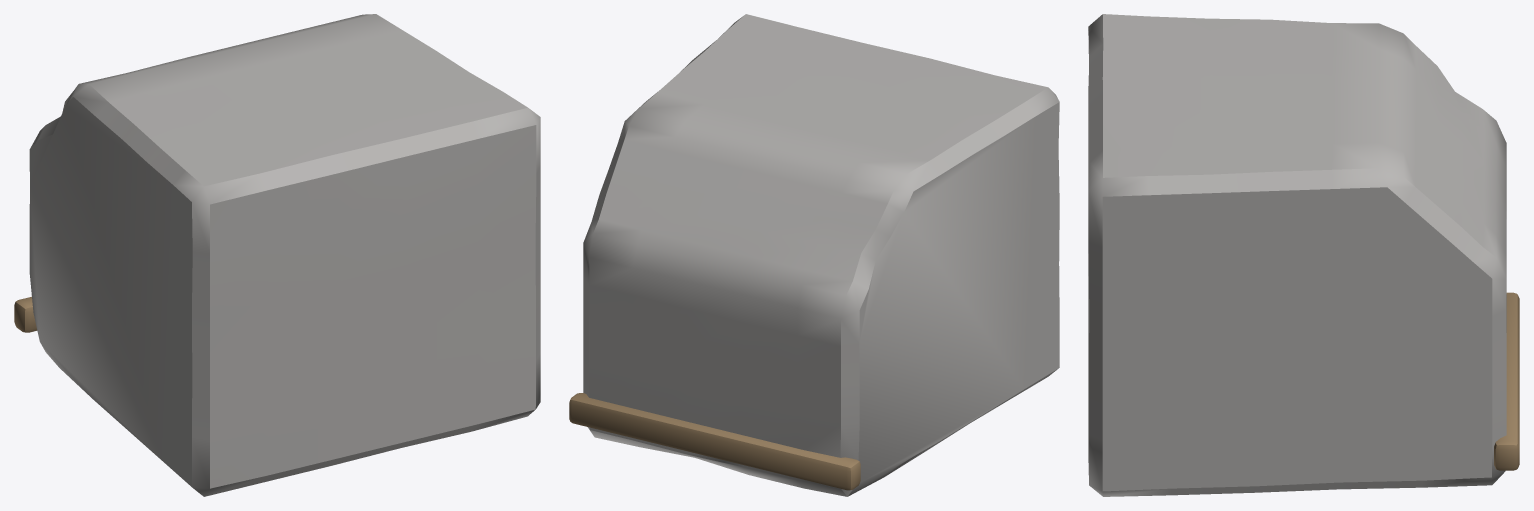
The model's file is SM_Area2_RimTooth_Small_A.glb.
3 views of the same model, side by side, from view 1: azimuth 30°, elevation 25°; view 2: azimuth 150°, elevation 25°; view 3: azimuth 270°, elevation 25° (orthographic). The views are drawn at different scales.
Visible parts, largest first — view 1: SM_Area2_RimTooth_Small_A; view 2: SM_Area2_RimTooth_Small_A; view 3: SM_Area2_RimTooth_Small_A.
Boxes of the visible parts, x1,y1,x2,y2 form: SM_Area2_RimTooth_Small_A: (14,14,540,496); SM_Area2_RimTooth_Small_A: (569,14,1059,496); SM_Area2_RimTooth_Small_A: (1088,14,1519,496).
Size of the model in its own units: 1.29 by 1.1 by 1.34.
